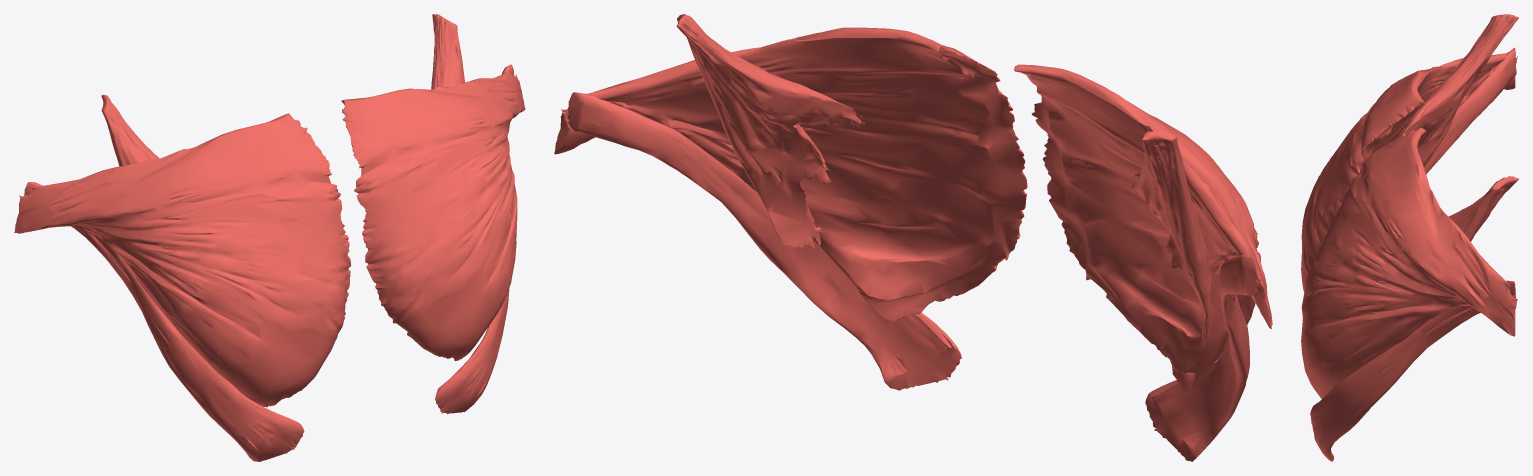
Rendered from supplement-spine-trunk-muscle-pectorals.glb.
3 renders of one model, left to right at view 1: azimuth 30°, elevation 25°; view 2: azimuth 150°, elevation 25°; view 3: azimuth 270°, elevation 25°, orthographic. The views are drawn at different scales.
Parts seen in each view (by area): view 1: spine-trunk:pectoralis-major:isa:FJ1464, spine-trunk:pectoralis-major:isa:FJ1464M, spine-trunk:pectoralis-major:isa:FJ1446, spine-trunk:pectoralis-major:isa:FJ1446M, spine-trunk:pectoralis-minor:isa:FJ1456M, spine-trunk:pectoralis-minor:isa:FJ1456; view 2: spine-trunk:pectoralis-major:isa:FJ1464M, spine-trunk:pectoralis-major:isa:FJ1464, spine-trunk:pectoralis-major:isa:FJ1446M, spine-trunk:pectoralis-minor:isa:FJ1456M, spine-trunk:pectoralis-major:isa:FJ1446, spine-trunk:pectoralis-minor:isa:FJ1456; view 3: spine-trunk:pectoralis-major:isa:FJ1464M, spine-trunk:pectoralis-major:isa:FJ1464, spine-trunk:pectoralis-major:isa:FJ1446M, spine-trunk:pectoralis-minor:isa:FJ1456, spine-trunk:pectoralis-major:isa:FJ1446, spine-trunk:pectoralis-minor:isa:FJ1456M.
Part boxes in pixels (bbox=[...]): spine-trunk:pectoralis-major:isa:FJ1464: bbox=[14, 113, 351, 407]; spine-trunk:pectoralis-major:isa:FJ1464M: bbox=[341, 70, 525, 360]; spine-trunk:pectoralis-major:isa:FJ1446: bbox=[24, 182, 304, 461]; spine-trunk:pectoralis-major:isa:FJ1446M: bbox=[435, 64, 514, 414]; spine-trunk:pectoralis-minor:isa:FJ1456M: bbox=[431, 14, 464, 89]; spine-trunk:pectoralis-minor:isa:FJ1456: bbox=[101, 94, 159, 166]; spine-trunk:pectoralis-major:isa:FJ1464M: bbox=[554, 27, 1027, 321]; spine-trunk:pectoralis-major:isa:FJ1464: bbox=[1014, 64, 1272, 392]; spine-trunk:pectoralis-major:isa:FJ1446M: bbox=[567, 92, 961, 390]; spine-trunk:pectoralis-minor:isa:FJ1456M: bbox=[676, 14, 864, 250]; spine-trunk:pectoralis-major:isa:FJ1446: bbox=[1145, 254, 1258, 461]; spine-trunk:pectoralis-minor:isa:FJ1456: bbox=[1131, 129, 1212, 347]; spine-trunk:pectoralis-major:isa:FJ1464M: bbox=[1301, 128, 1517, 398]; spine-trunk:pectoralis-major:isa:FJ1464: bbox=[1301, 52, 1517, 292]; spine-trunk:pectoralis-major:isa:FJ1446M: bbox=[1310, 280, 1516, 461]; spine-trunk:pectoralis-minor:isa:FJ1456: bbox=[1400, 14, 1518, 166]; spine-trunk:pectoralis-major:isa:FJ1446: bbox=[1424, 47, 1516, 174]; spine-trunk:pectoralis-minor:isa:FJ1456M: bbox=[1448, 176, 1518, 241].
Bounding box in the file's own units: 0.3757 × 0.2219 × 0.139.
